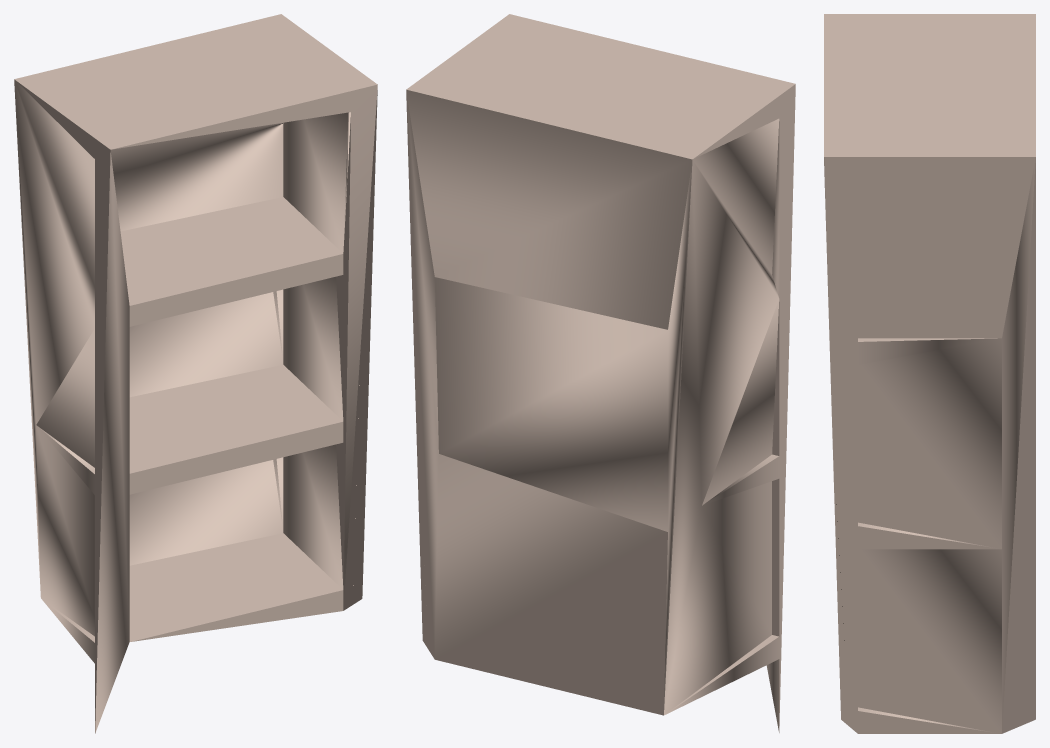
Rendered from bookcaseClosed.glb.
The picture shows the model from 3 angles, left to right: view 1: azimuth 30°, elevation 25°; view 2: azimuth 150°, elevation 25°; view 3: azimuth 270°, elevation 25°; orthographic projection. The views are drawn at different scales.
Parts seen in each view (by area): view 1: bookcaseClosed(Clone); view 2: bookcaseClosed(Clone); view 3: bookcaseClosed(Clone).
Boxes of the visible parts, <box> form: bookcaseClosed(Clone): <box>14,14,377,733</box>; bookcaseClosed(Clone): <box>406,14,795,732</box>; bookcaseClosed(Clone): <box>824,14,1035,733</box>.
Bounding box in the file's own units: 0.3992 × 0.85 × 0.2495.
